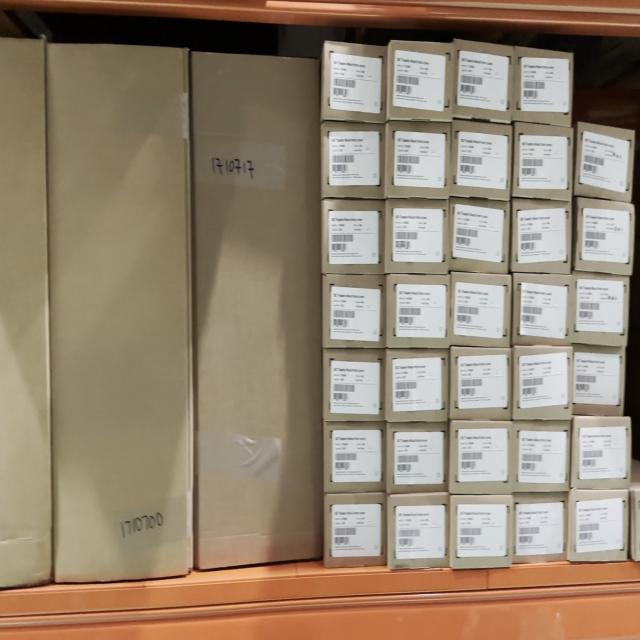box: (57, 49, 185, 578), (198, 61, 320, 562), (384, 124, 452, 195), (389, 43, 450, 117), (324, 277, 382, 353), (326, 44, 384, 118), (323, 424, 382, 496), (579, 201, 635, 276), (385, 204, 445, 271), (453, 274, 510, 344), (388, 499, 448, 565), (324, 202, 383, 269), (388, 278, 446, 346), (514, 124, 569, 195), (450, 423, 510, 488), (452, 498, 511, 564), (457, 47, 511, 119), (324, 128, 380, 197), (387, 426, 447, 489), (453, 127, 509, 193), (387, 354, 446, 416), (452, 352, 510, 415), (571, 493, 628, 557), (450, 204, 508, 266), (515, 204, 570, 269), (575, 421, 628, 486), (519, 53, 572, 118), (324, 359, 382, 418), (326, 504, 383, 564), (515, 278, 571, 338), (580, 133, 634, 195), (514, 424, 568, 486), (517, 351, 569, 413), (515, 497, 565, 558), (578, 282, 626, 342), (575, 352, 621, 410)
